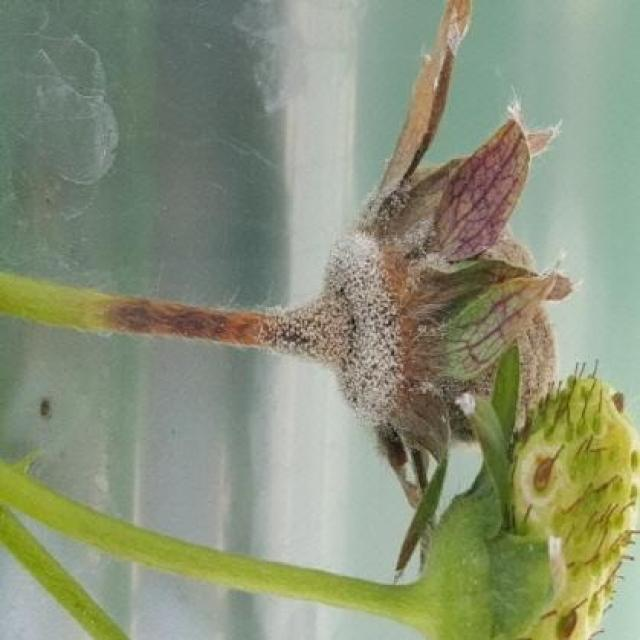Gray Mold: (213, 0, 579, 520)
